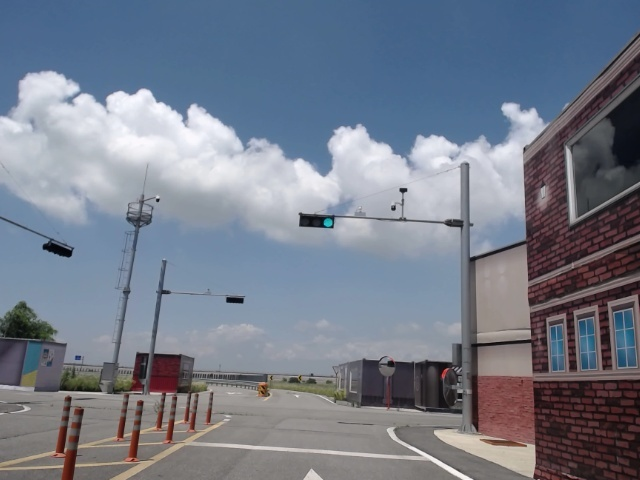green_3: (301, 216, 333, 229)
